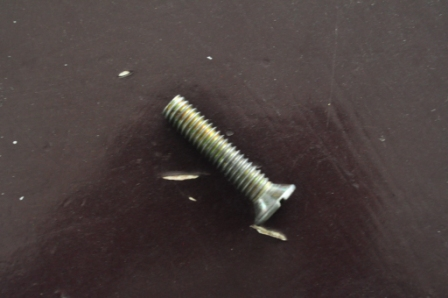NUT (MT): (161, 93, 300, 227)
